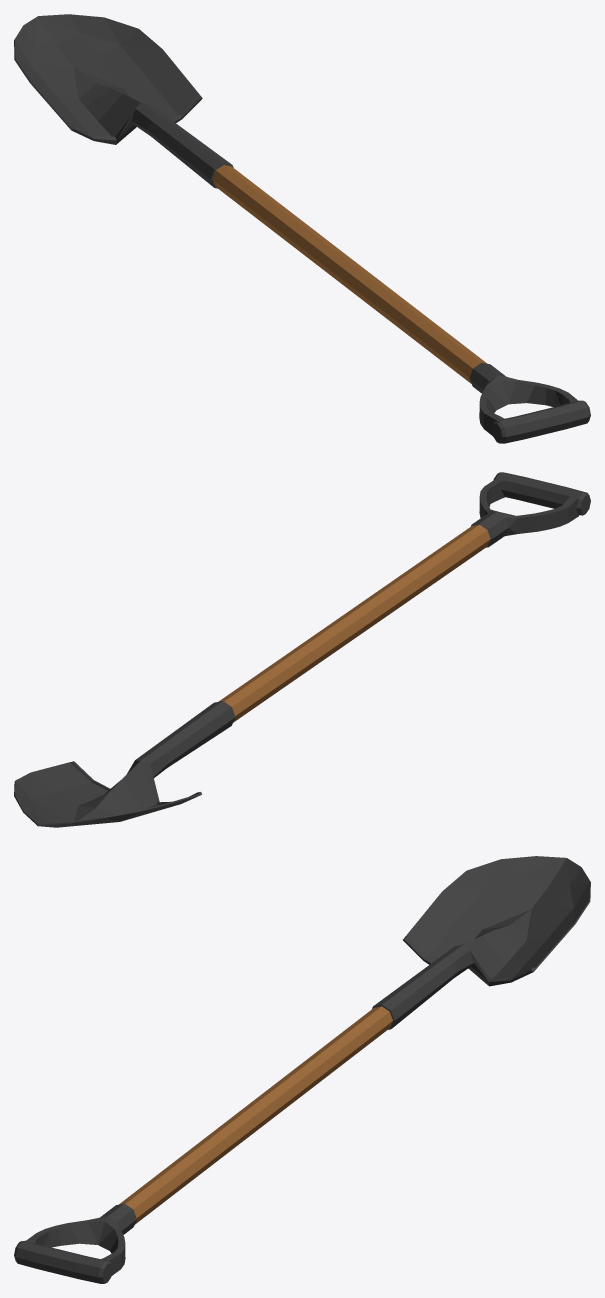
Rendered from Shovel_3D.glb.
The picture shows the model from 3 angles, top to bottom: view 1: azimuth 30°, elevation 25°; view 2: azimuth 150°, elevation 25°; view 3: azimuth 330°, elevation 25°; orthographic projection.
Parts seen in each view (by area): view 1: shovel (1); view 2: shovel (1); view 3: shovel (1).
Boxes of the visible parts, x1,y1,x2,y2 form: shovel (1): [14, 14, 590, 443]; shovel (1): [14, 472, 590, 827]; shovel (1): [14, 856, 590, 1283].
Bounding box in the file's own units: 0.2753 × 0.1063 × 1.82.
Materials: 1 (1 with a texture image).
